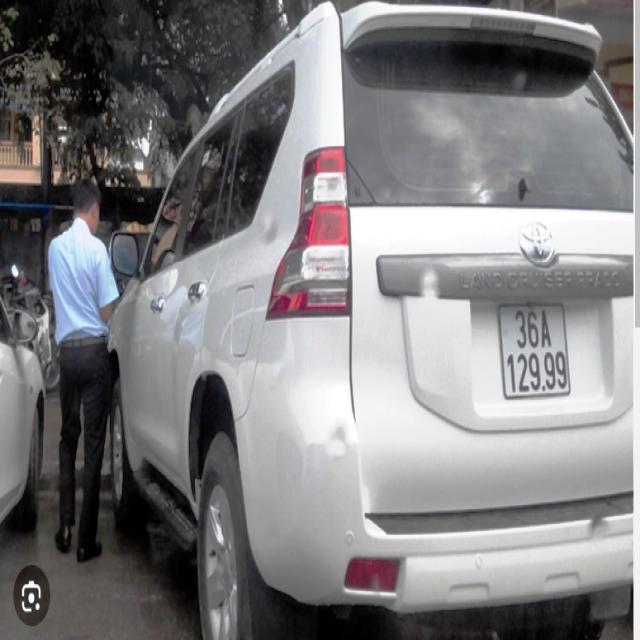license_plate: (500, 303, 572, 403)
